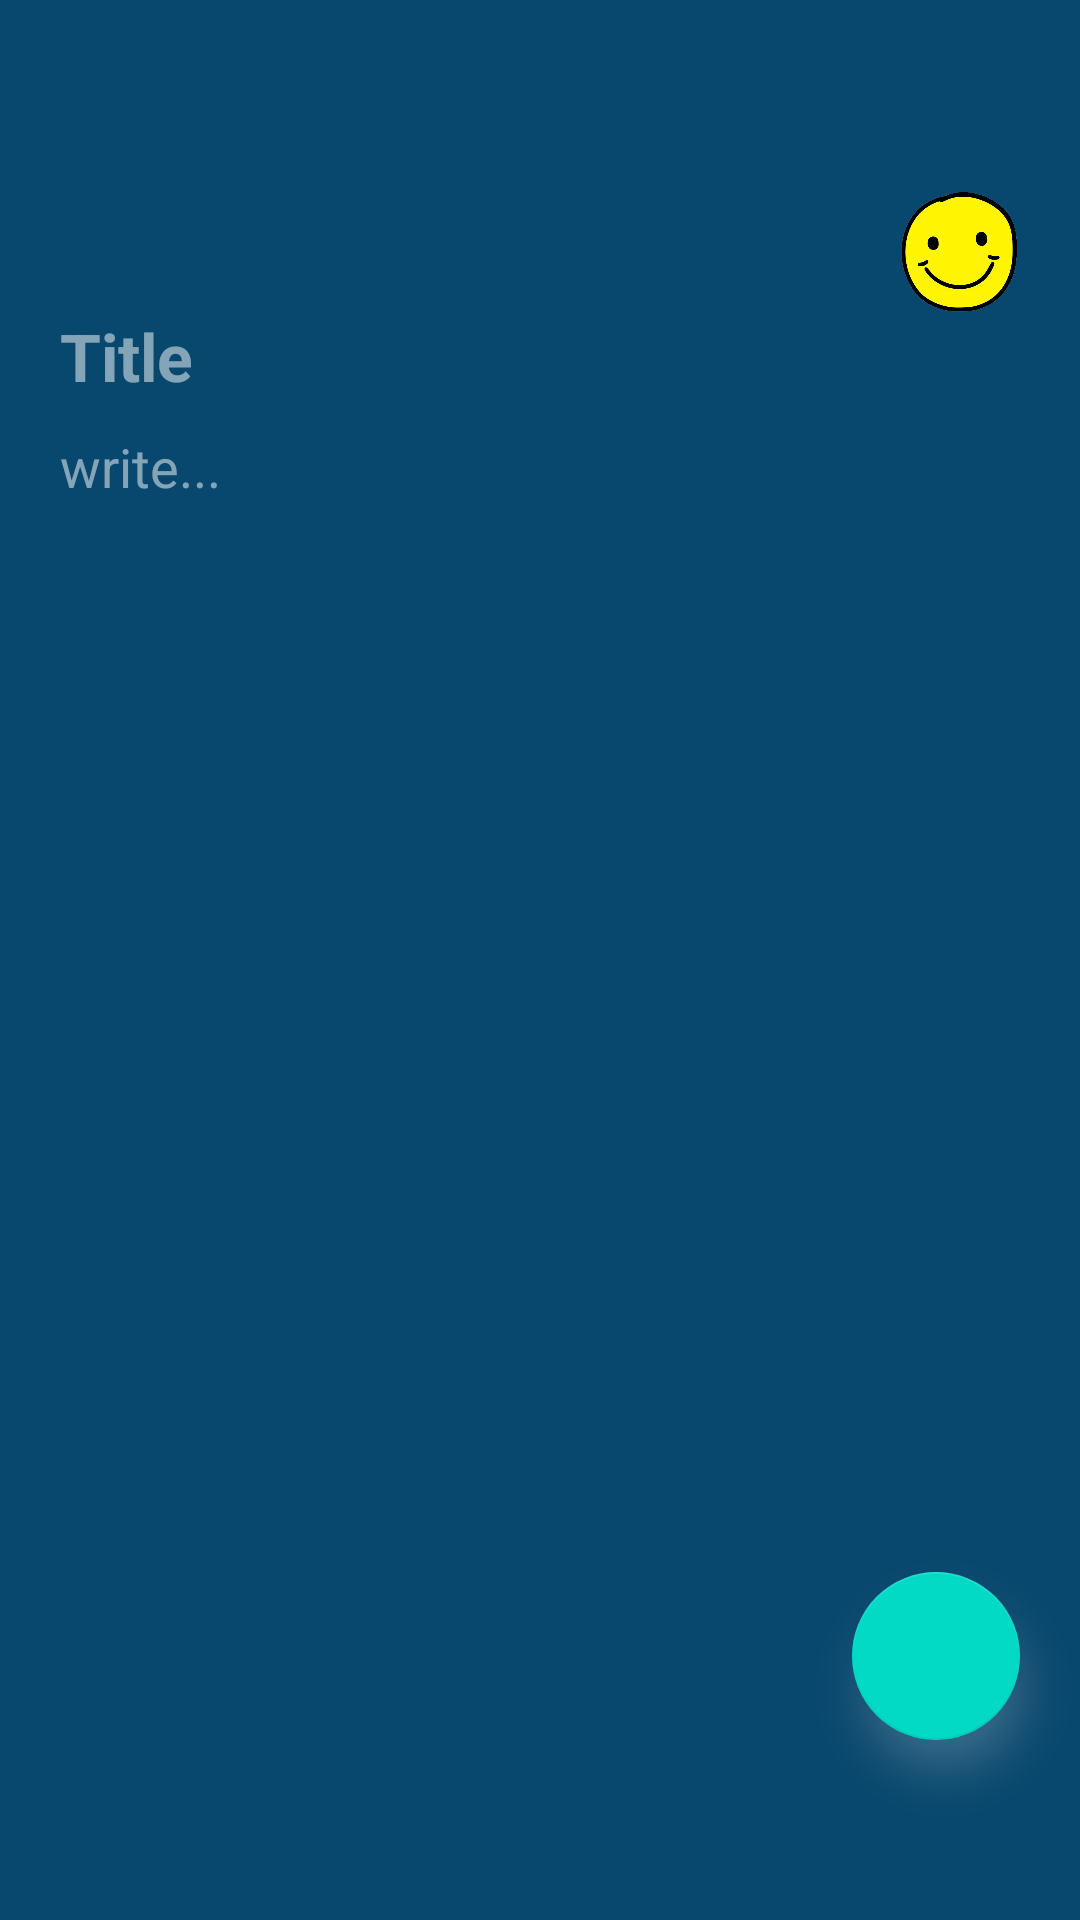

Where icons sit on this 1080 x 1920 app screen, as bbox=[x1, y1, x2, y2]:
emojiset: bbox=[902, 192, 1017, 311]
